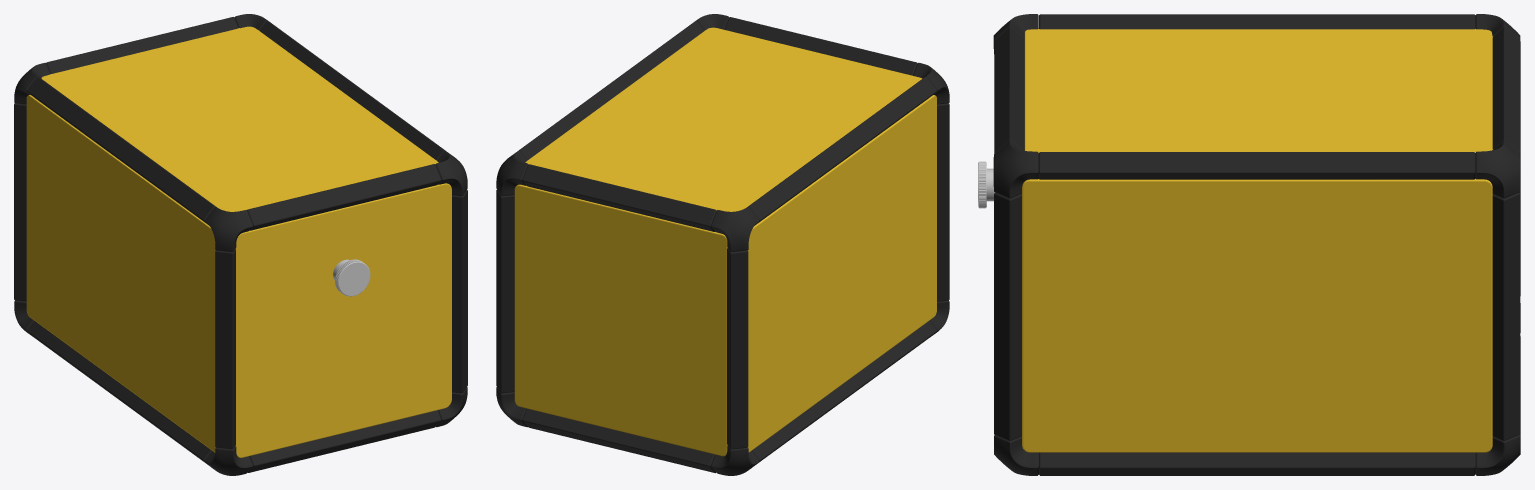
3 renders of one model, left to right at view 1: azimuth 30°, elevation 25°; view 2: azimuth 150°, elevation 25°; view 3: azimuth 270°, elevation 25°, orthographic. The views are drawn at different scales.
Visible parts, largest first — view 1: 229x374x229; view 2: 229x374x229; view 3: 229x374x229.
Boxes of the visible parts, bbox=[...] form: 229x374x229: bbox=[14, 14, 467, 475]; 229x374x229: bbox=[496, 14, 949, 475]; 229x374x229: bbox=[978, 14, 1520, 475].
Size of the model in its own units: 0.3067 by 0.3066 by 0.4646.
